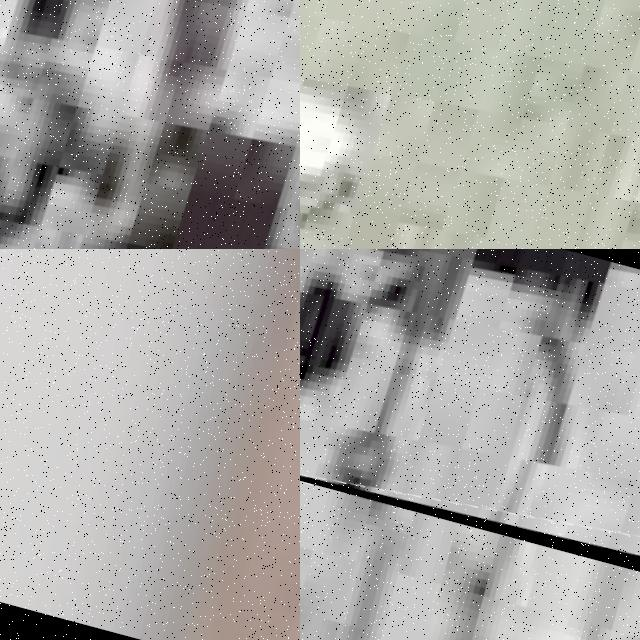drone: (300, 249, 640, 603), (300, 0, 640, 249), (0, 0, 300, 249)
